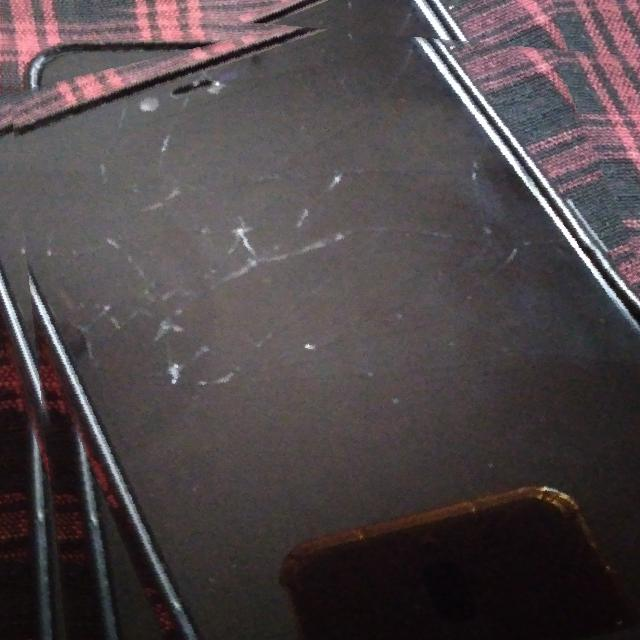Crack: (51, 47, 511, 397)
